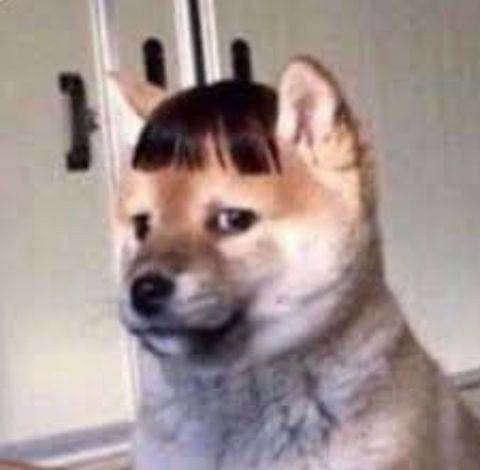dog: (110, 55, 476, 465)
